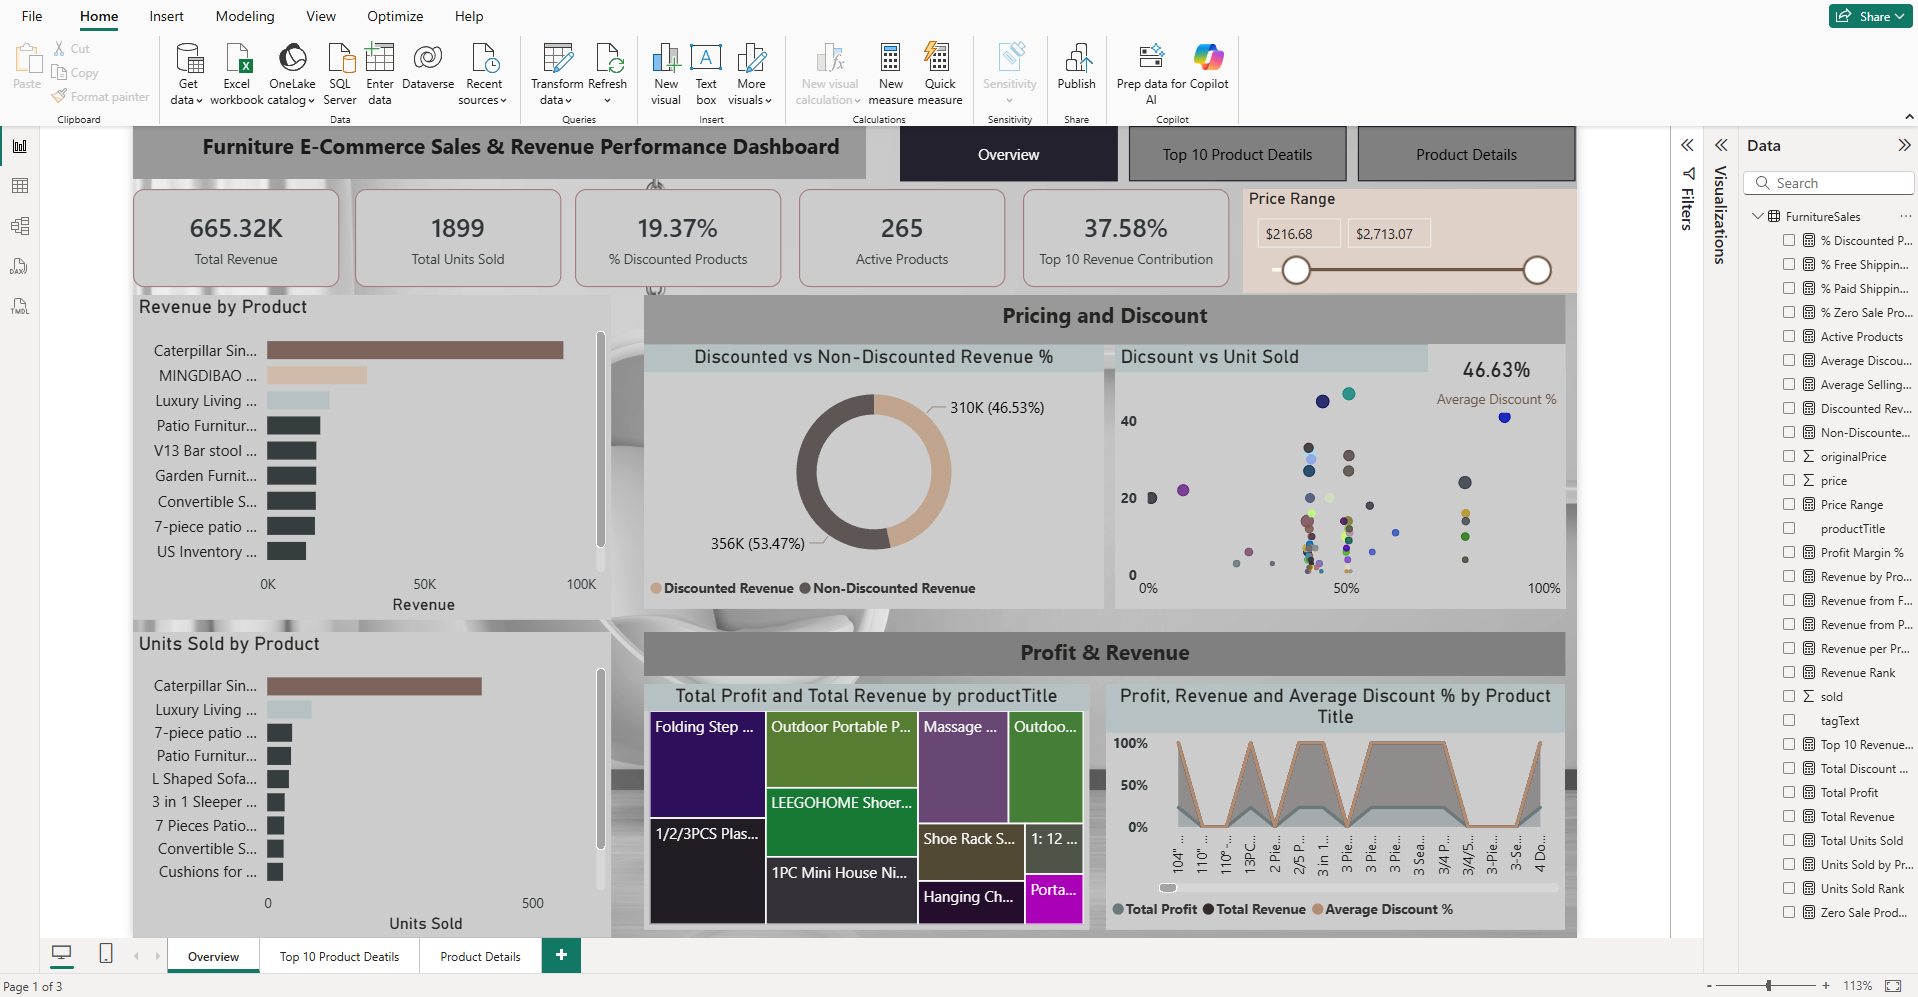

The page's visual inventory and layout, read from the dashboard file:
{"tool":"powerbi","page":{"name":"Overview","canvas":[1280,720],"ordinal":0},"visuals":[{"type":"actionButton","box":[0,0,100,40],"z":0},{"type":"textbox","box":[0,0,650.2,46.7],"z":1000},{"type":"barChart","fields":{"Y":["FurnitureSales.Revenue by Product"],"Category":["FurnitureSales.productTitle"]},"box":[0,149.7,423.8,287.7],"z":2000},{"type":"barChart","fields":{"Y":["FurnitureSales.Units Sold by Product"],"Category":["FurnitureSales.productTitle"]},"box":[0,448.7,423.8,271.3],"z":3000},{"type":"scatterChart","title":"Dicsount vs Unit Sold","fields":{"X":["FurnitureSales.Average Discount %"],"Y":["FurnitureSales.Units Sold by Product"],"Size":["FurnitureSales.Revenue by Product"],"Category":["FurnitureSales.productTitle"]},"box":[870.7,194.2,399.9,234.1],"z":4000},{"type":"donutChart","title":"Discounted vs Non-Discounted Revenue %","fields":{"Y":["FurnitureSales.Discounted Revenue","FurnitureSales.Non-Discounted Revenue"]},"box":[453.1,194.2,407.9,234.1],"z":5000},{"type":"textbox","box":[452.9,149.7,817.4,43.7],"z":6000},{"type":"treemap","fields":{"Group":["FurnitureSales.productTitle"],"Values":["FurnitureSales.Total Profit"]},"box":[453.1,494.8,394.6,218.1],"z":7000},{"type":"textbox","box":[452.9,449,817.4,38.9],"z":8000},{"type":"card","title":"Top 10 Revenue Contribution","fields":{"Values":["FurnitureSales.Top 10 Revenue Contribution %"]},"box":[789,55.5,182.7,86.9],"z":9000},{"type":"card","title":"Top 10 Revenue Contribution","fields":{"Values":["FurnitureSales.Active Products"]},"box":[590.4,55.5,182.7,86.9],"z":10000},{"type":"card","title":"Top 10 Revenue Contribution","fields":{"Values":["FurnitureSales.% Discounted Products"]},"box":[391.7,55.5,182.7,86.9],"z":11000},{"type":"card","title":"Top 10 Revenue Contribution","fields":{"Values":["FurnitureSales.Total Units Sold"]},"box":[196.7,55.5,182.7,86.9],"z":12000},{"type":"card","title":"Top 10 Revenue Contribution","fields":{"Values":["FurnitureSales.Total Revenue"]},"box":[-0.2,55.5,182.7,86.9],"z":13000},{"type":"card","fields":{"Values":["FurnitureSales.Average Discount %"]},"box":[1148.7,193.6,121.6,61.3],"z":14000},{"type":"hundredPercentStackedAreaChart","title":"Profit, Revenue and Average Discount % by Product Title","fields":{"Category":["FurnitureSales.productTitle"],"Y":["FurnitureSales.Total Profit","FurnitureSales.Total Revenue","FurnitureSales.Average Discount %"]},"box":[863.1,494.7,407.2,217.7],"z":15000},{"type":"slicer","title":"Price Range","fields":{"Values":["FurnitureSales.price"]},"box":[984.1,55.4,295.7,92.4],"z":16000},{"type":"pageNavigator","box":[680.3,0,599.7,49.6],"z":17000}]}

Visuals, with their boxes on the page's 1280x720 design canvas (x1, y1, x2, y2). These are canvas units, not pixel positions in the 1918x997 screenshot, which may show the page scaled, cropped or inside an application window:
actionButton: [0, 0, 100, 40]
textbox: [0, 0, 650, 47]
barChart - FurnitureSales.Revenue by Product x FurnitureSales.productTitle: [0, 150, 424, 437]
barChart - FurnitureSales.Units Sold by Product x FurnitureSales.productTitle: [0, 449, 424, 720]
"Dicsount vs Unit Sold" scatterChart: [871, 194, 1271, 428]
"Discounted vs Non-Discounted Revenue %" donutChart: [453, 194, 861, 428]
textbox: [453, 150, 1270, 193]
treemap - FurnitureSales.productTitle x FurnitureSales.Total Profit: [453, 495, 848, 713]
textbox: [453, 449, 1270, 488]
"Top 10 Revenue Contribution" card: [789, 56, 972, 142]
"Top 10 Revenue Contribution" card: [590, 56, 773, 142]
"Top 10 Revenue Contribution" card: [392, 56, 574, 142]
"Top 10 Revenue Contribution" card: [197, 56, 379, 142]
"Top 10 Revenue Contribution" card: [0, 56, 182, 142]
card - FurnitureSales.Average Discount %: [1149, 194, 1270, 255]
"Profit, Revenue and Average Discount % by Product Title" hundredPercentStackedAreaChart: [863, 495, 1270, 712]
"Price Range" slicer: [984, 55, 1280, 148]
pageNavigator: [680, 0, 1280, 50]
